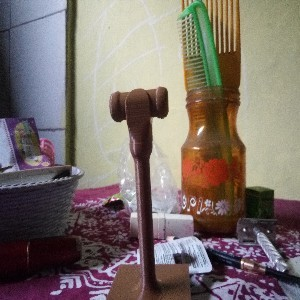palu: (108, 84, 169, 300)
